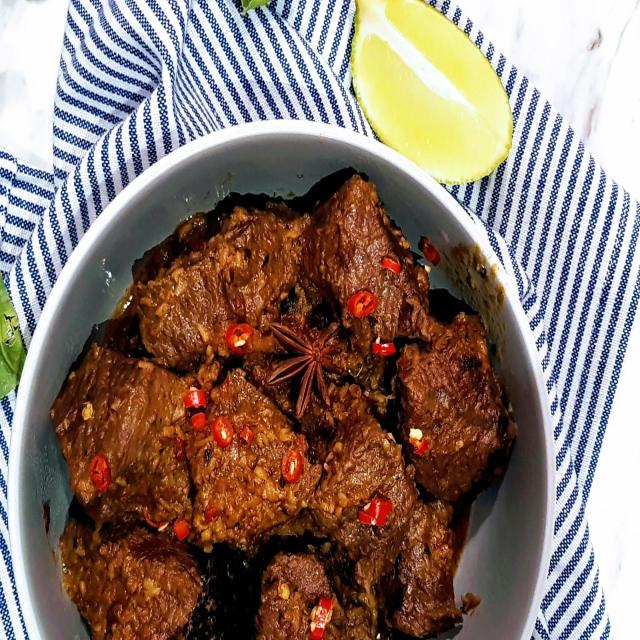Rendang: (0, 148, 549, 640)
